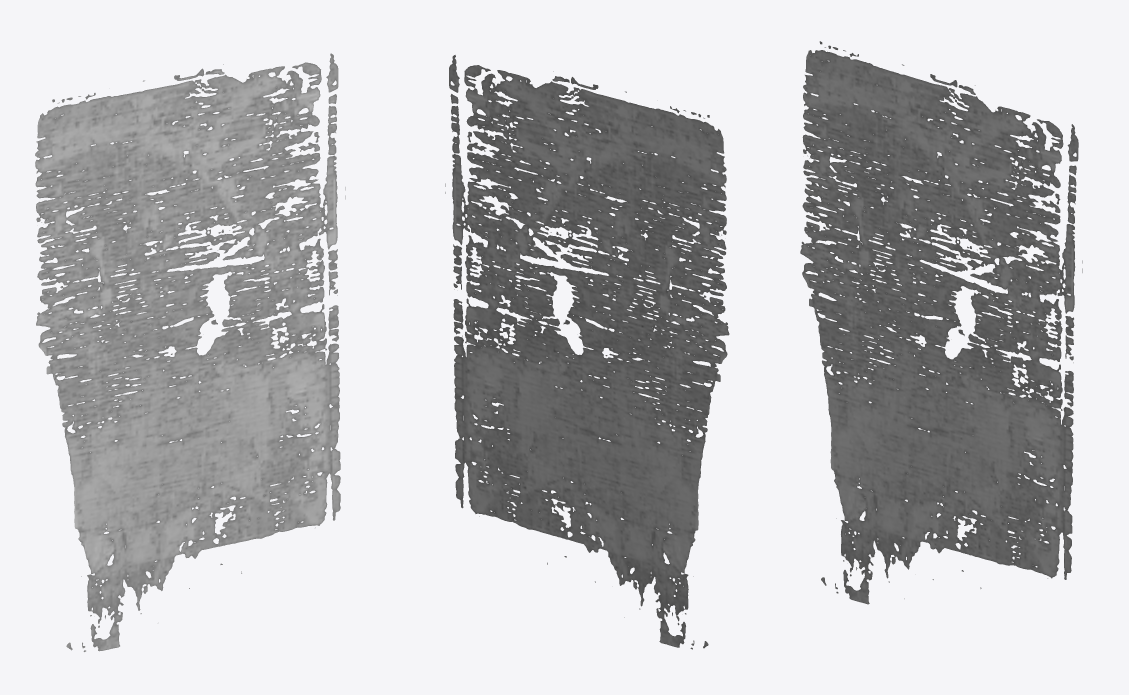
The model's file is poster_adhesive_1.fbx.
The picture shows the model from 3 angles, left to right: view 1: azimuth 30°, elevation 25°; view 2: azimuth 150°, elevation 25°; view 3: azimuth 330°, elevation 25°; orthographic projection. The views are drawn at different scales.
Visible parts, largest first — view 1: poster_adhesive_1; view 2: poster_adhesive_1; view 3: poster_adhesive_1.
Boxes of the visible parts, <box> form: poster_adhesive_1: <box>35,53,345,651</box>; poster_adhesive_1: <box>445,55,729,649</box>; poster_adhesive_1: <box>800,41,1082,604</box>.
Size of the model in its own units: 44.03 by 70.48 by 4.3.
